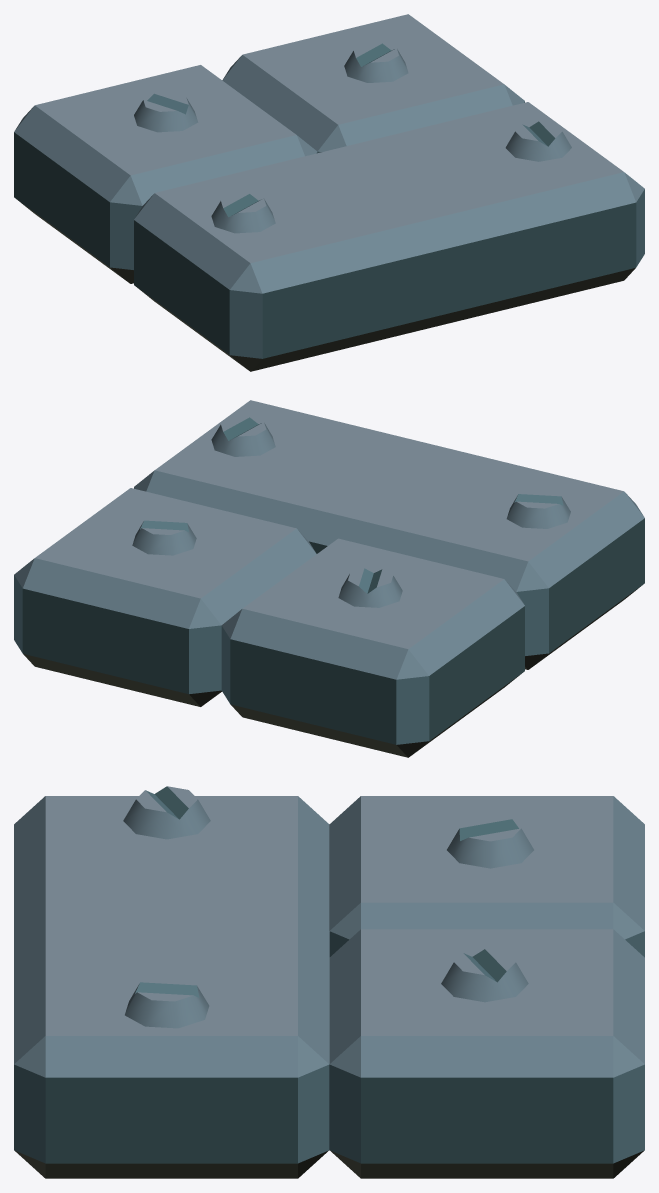
File: m_kub_metal_flatMixed.FBX
The picture shows the model from 3 angles, top to bottom: view 1: azimuth 30°, elevation 25°; view 2: azimuth 150°, elevation 25°; view 3: azimuth 270°, elevation 25°; orthographic projection. The views are drawn at different scales.
Parts seen in each view (by area): view 1: m_kub_metal_flatMixed; view 2: m_kub_metal_flatMixed; view 3: m_kub_metal_flatMixed.
Boxes of the visible parts, x1,y1,x2,y2 form: m_kub_metal_flatMixed: (14,14,644,371); m_kub_metal_flatMixed: (14,400,644,757); m_kub_metal_flatMixed: (14,786,644,1178).
Bounding box in the file's own units: 2 × 0.5761 × 2.
